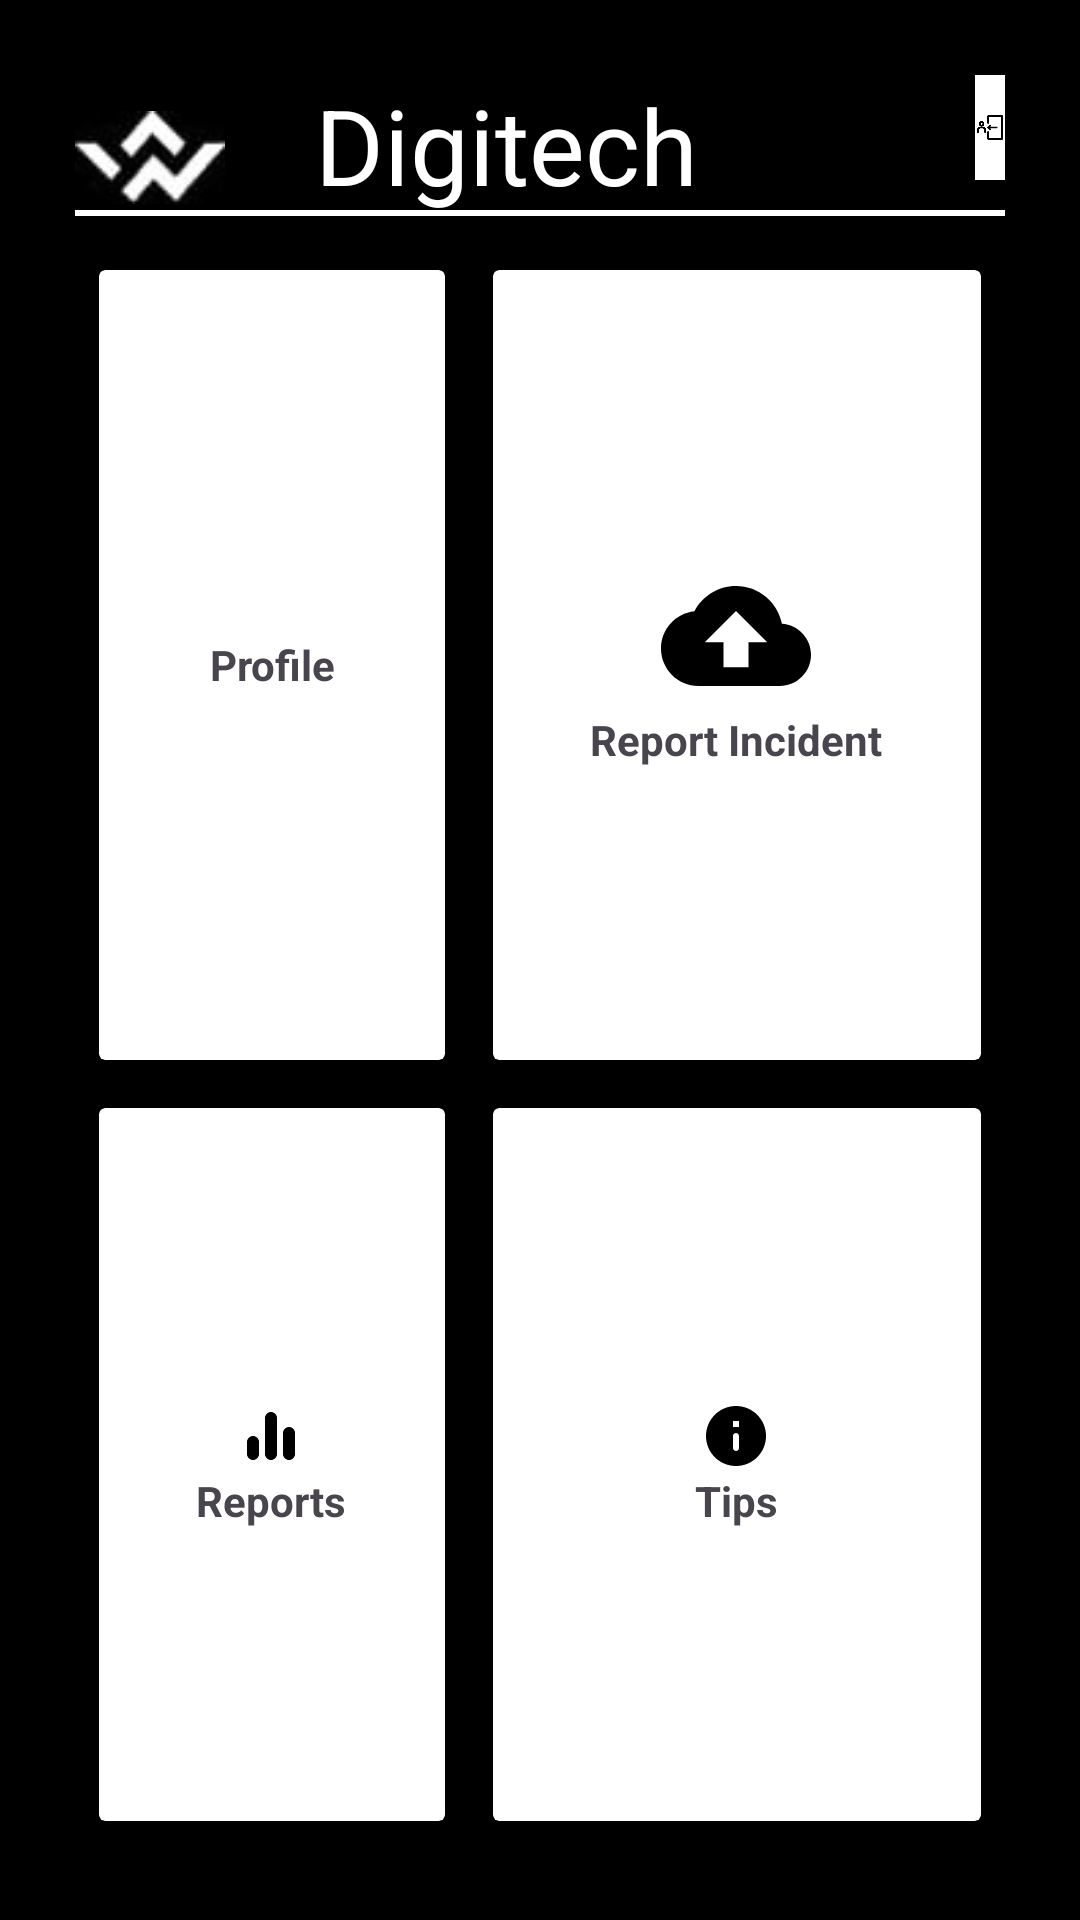

Icon bounding boxes for this 1080 × 1920 phone screenshot, format (x1, y1, x2, y2):
cloud upload: (661, 586, 811, 686)
equalizer: (247, 1412, 295, 1460)
info: (706, 1406, 766, 1466)
